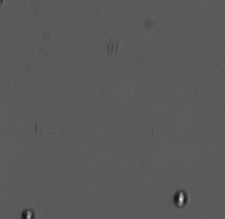Living Cell: (171, 187, 187, 208)
